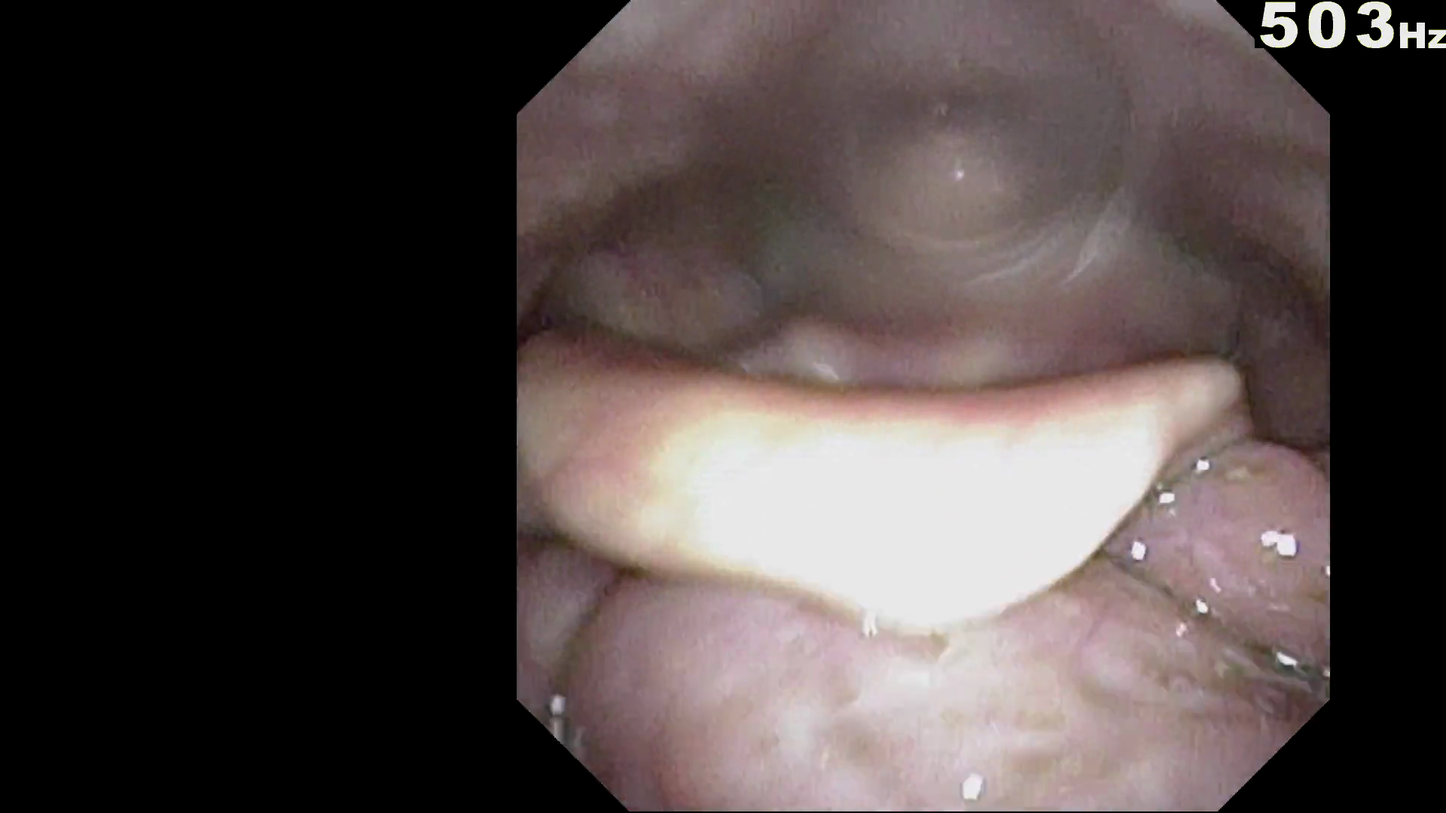epiglottis: (630, 379, 1245, 604)
